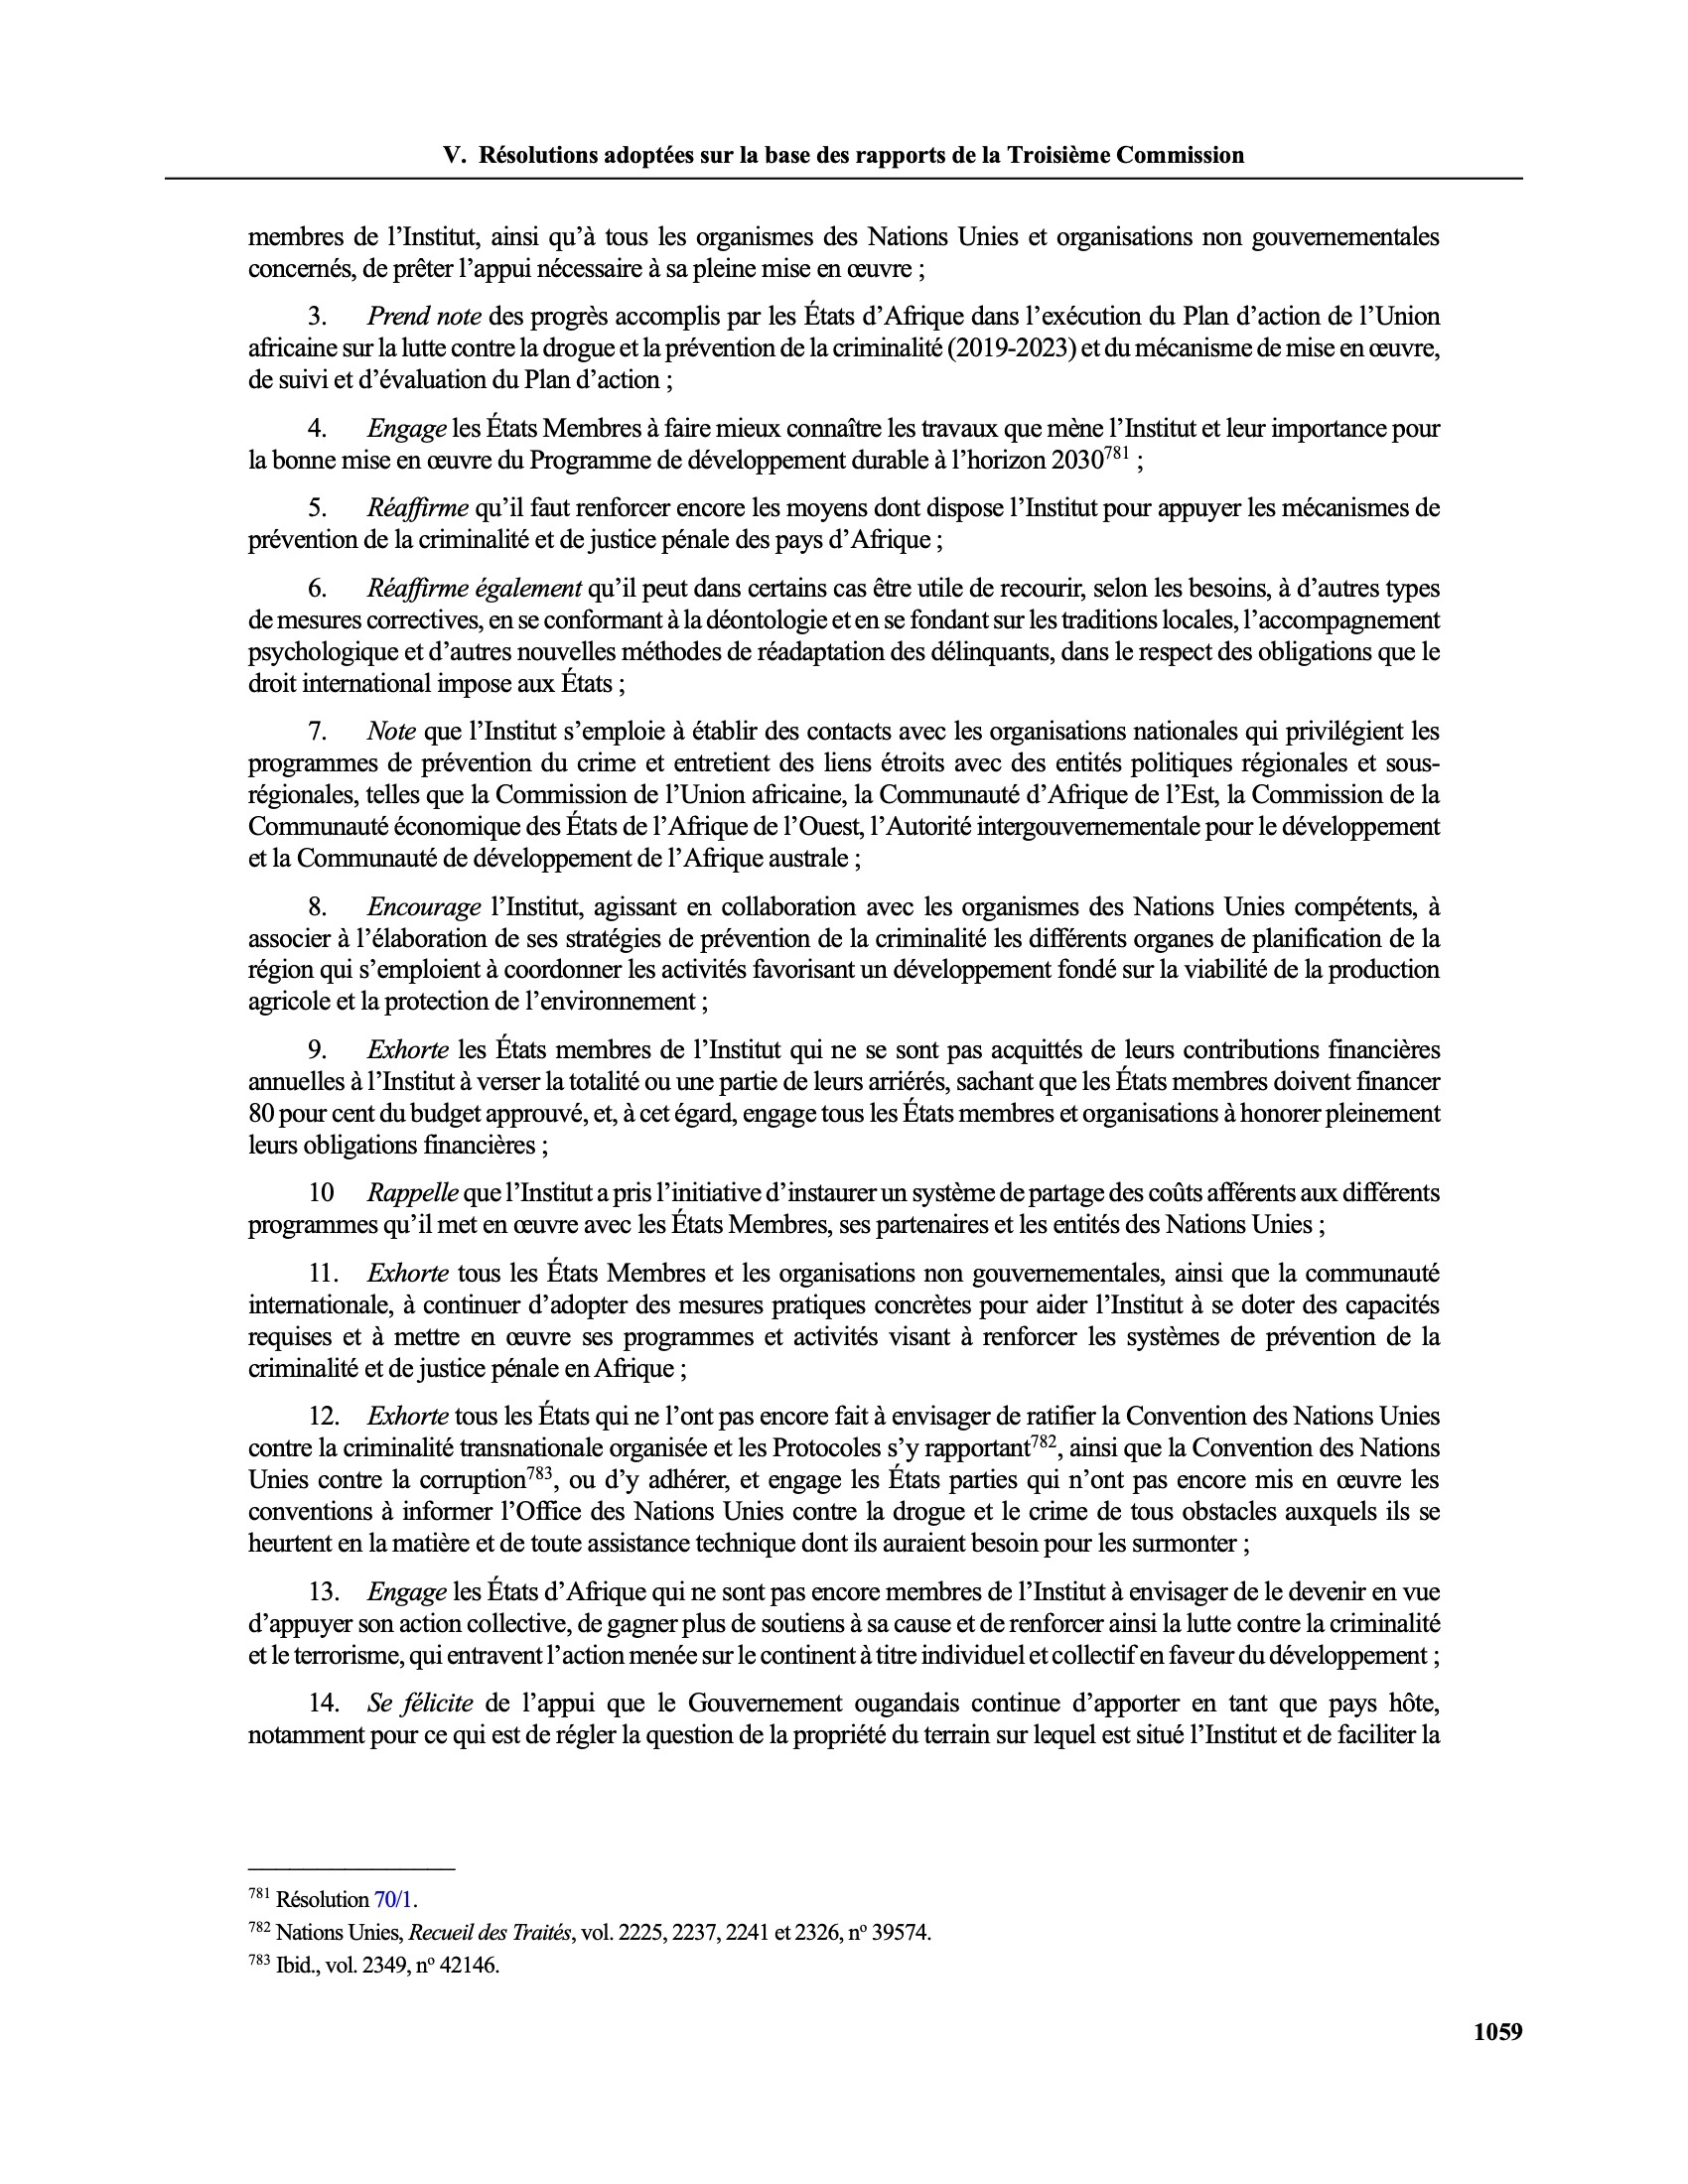MainZone-Continued: (234, 211, 1456, 292)
MainZone-ListItem: (234, 706, 1449, 879), (232, 1393, 1450, 1564), (234, 1026, 1447, 1168), (232, 885, 1447, 1025), (234, 1252, 1447, 1392), (236, 565, 1450, 704), (232, 294, 1454, 404), (234, 1569, 1449, 1673), (234, 1677, 1449, 1764), (236, 1166, 1447, 1248), (231, 482, 1449, 562), (231, 402, 1449, 480)
MarginTextZone-Notes: (243, 1907, 954, 1955), (245, 1946, 511, 1982), (239, 1879, 431, 1915)
NumberingZone: (1465, 2008, 1532, 2055)
RunningTitleZone: (429, 131, 1262, 179)
